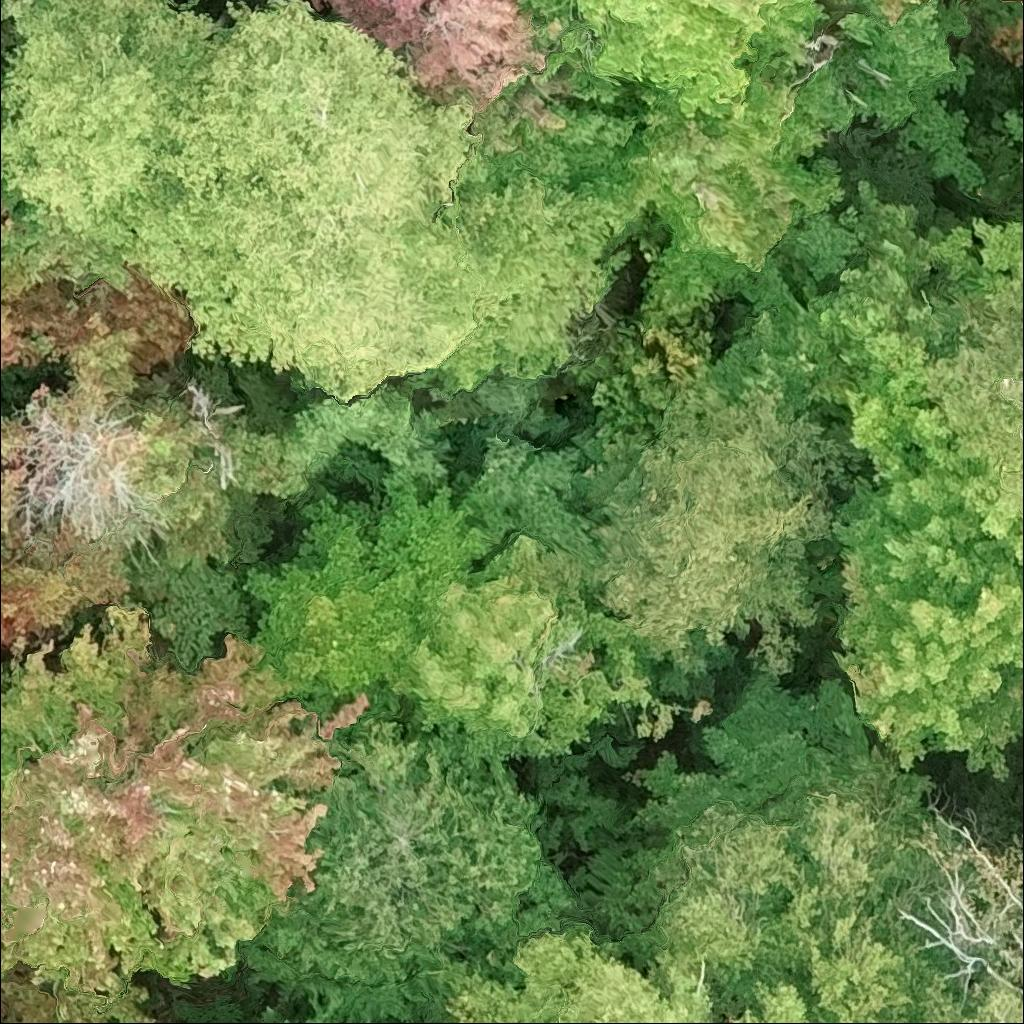crown: (120, 0, 509, 403), (0, 601, 370, 1023), (238, 690, 578, 1023), (589, 731, 943, 1023), (589, 372, 871, 675), (386, 530, 655, 772), (617, 0, 851, 278), (828, 452, 1023, 785), (241, 468, 492, 716), (0, 0, 225, 256), (795, 180, 964, 406), (792, 0, 987, 189), (524, 0, 818, 120), (308, 0, 568, 114), (450, 914, 720, 1023), (919, 283, 1023, 524), (840, 337, 988, 474), (129, 379, 234, 568), (0, 537, 138, 655), (923, 923, 1023, 1023), (0, 260, 53, 374), (0, 411, 33, 539), (729, 977, 812, 1023), (386, 966, 450, 1023), (258, 980, 340, 1023), (999, 95, 1023, 165), (881, 0, 935, 25), (0, 199, 12, 235), (1020, 197, 1023, 218)
